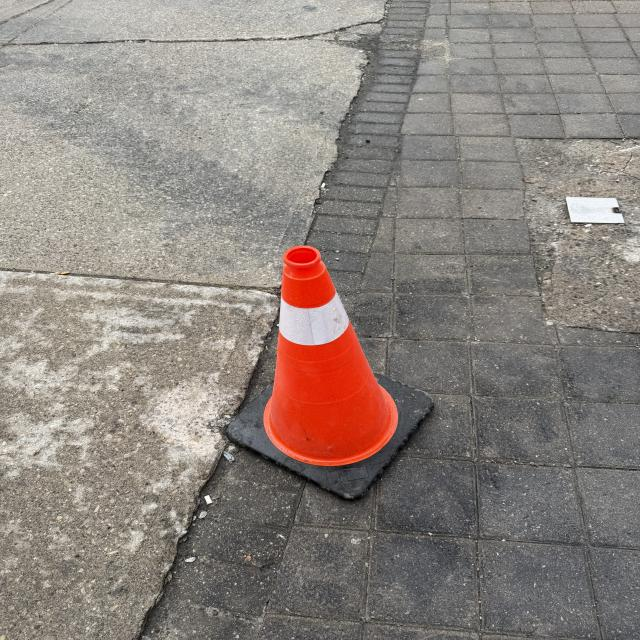Traffic Cone: (222, 245, 439, 500)
